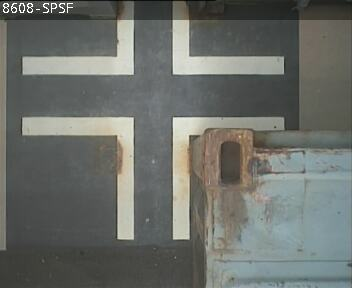groundmarker_1: (20, 115, 286, 240), (20, 3, 284, 76)
